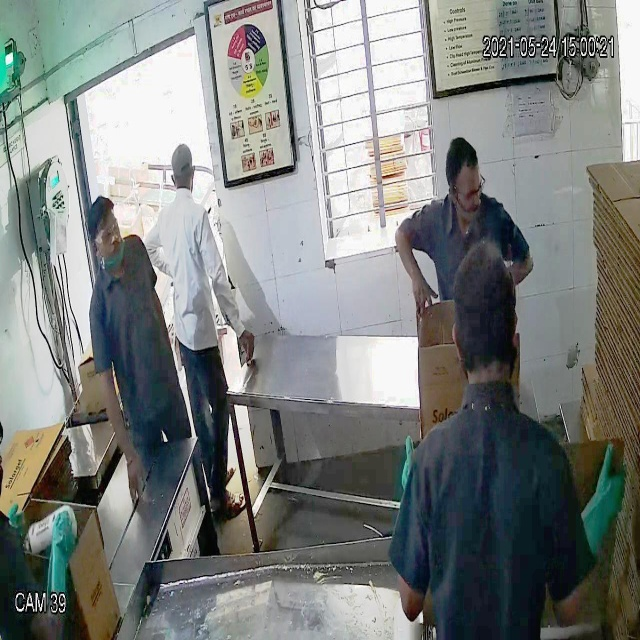Gafas: (446, 172, 488, 209), (90, 215, 125, 252)
